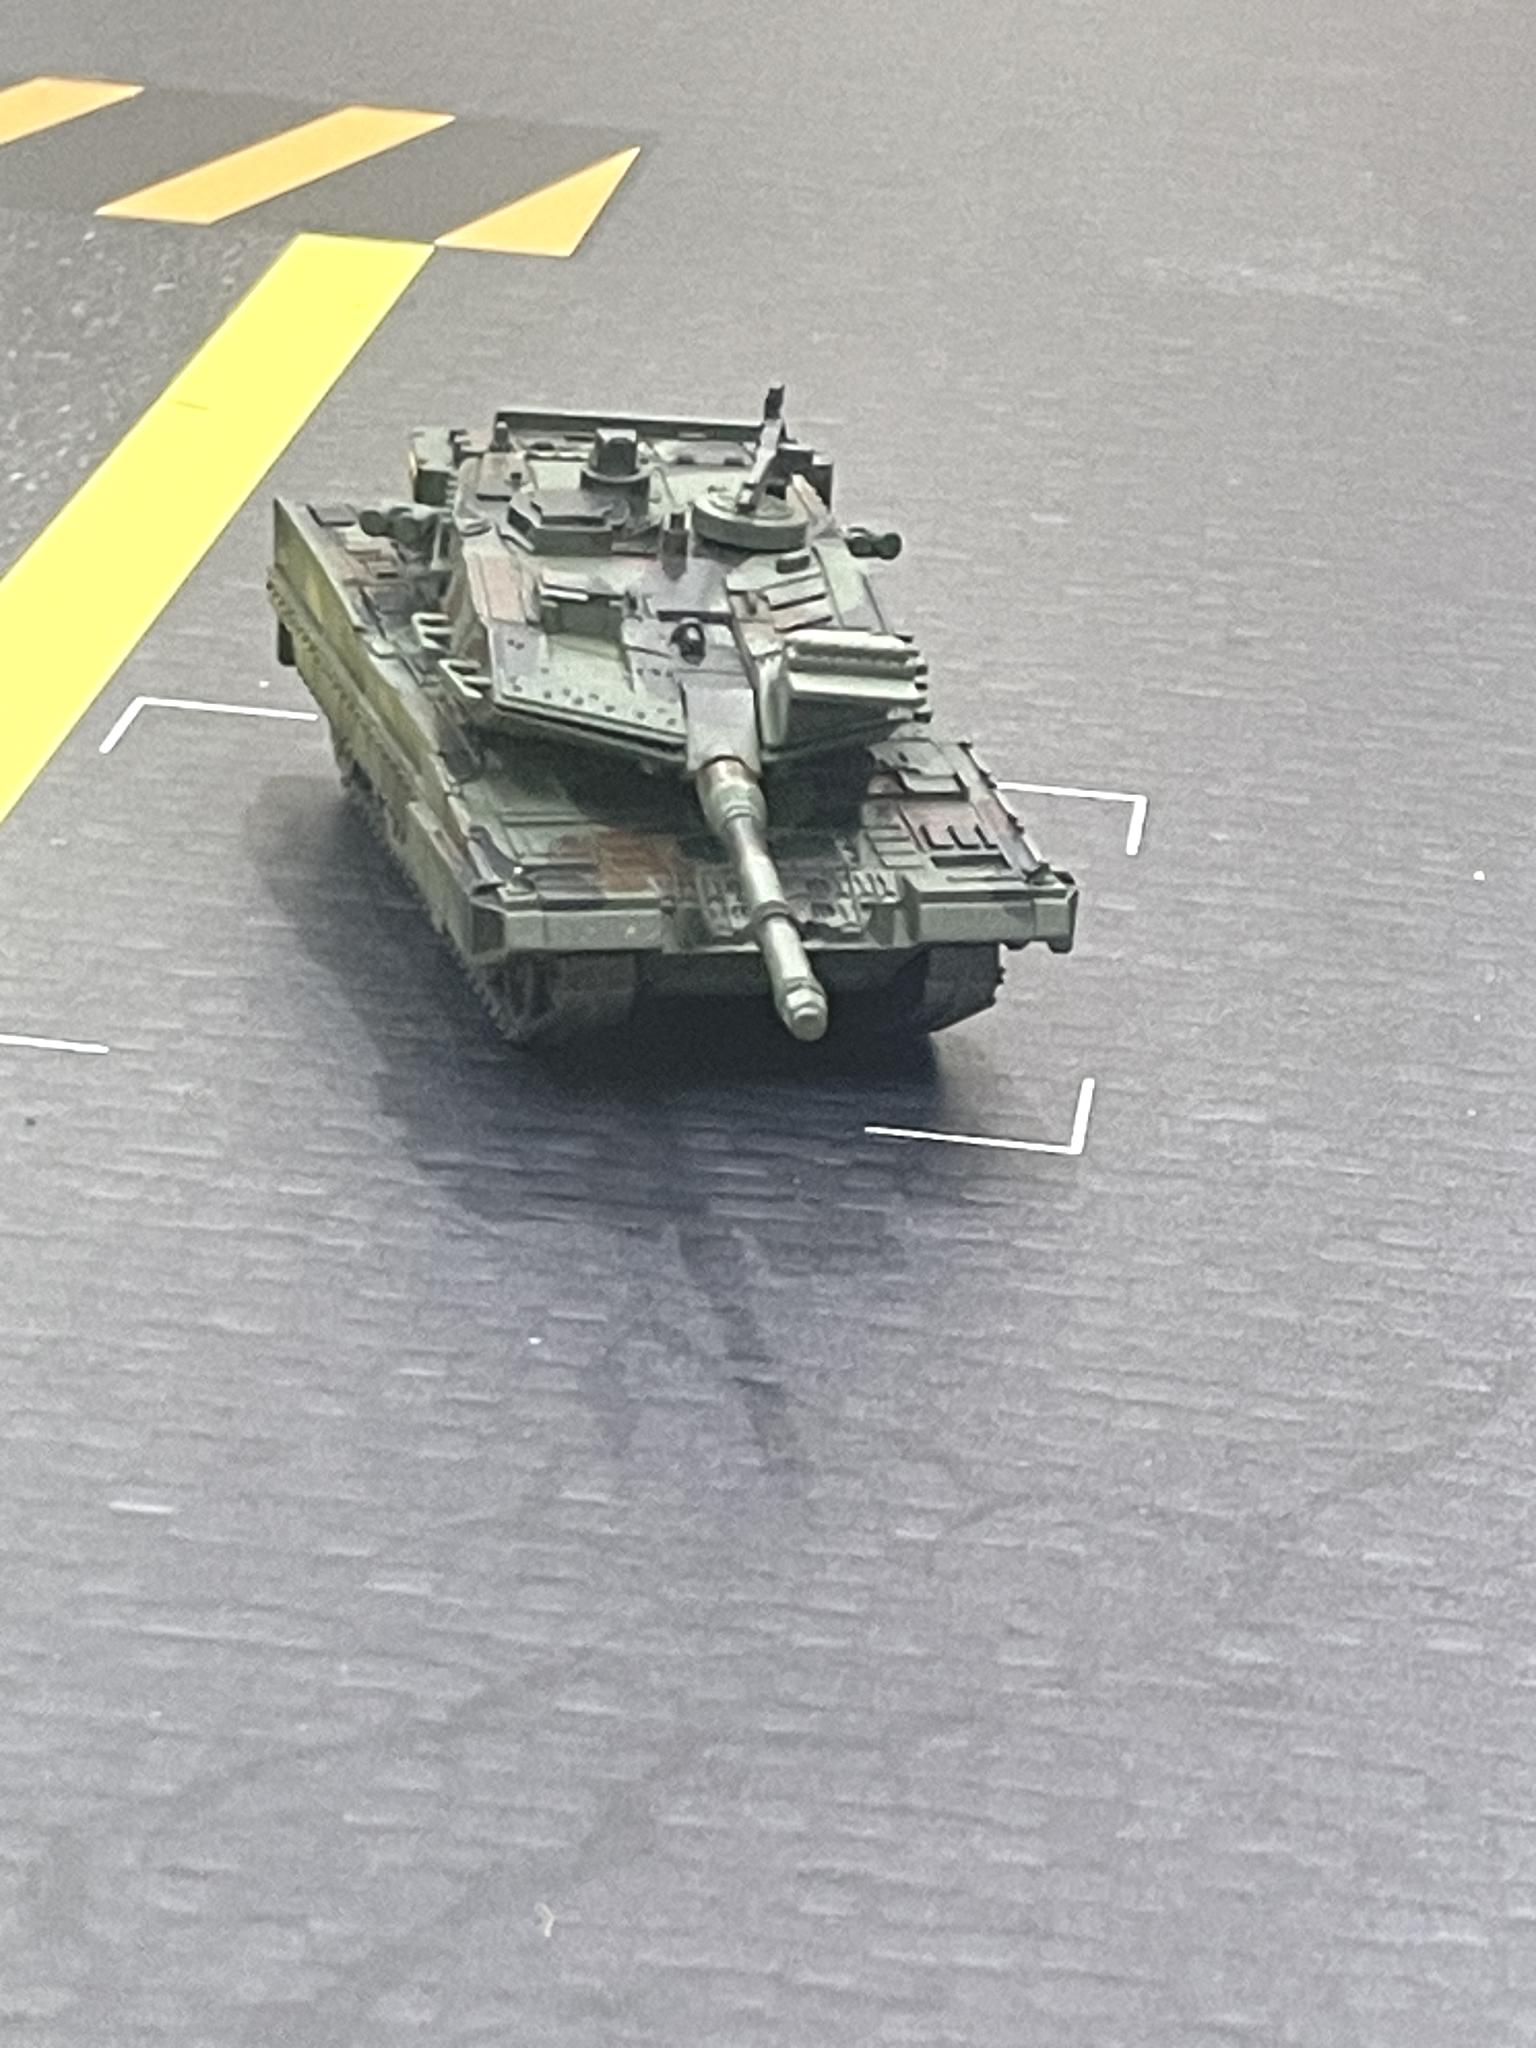Tank: (248, 374, 1092, 1100)
